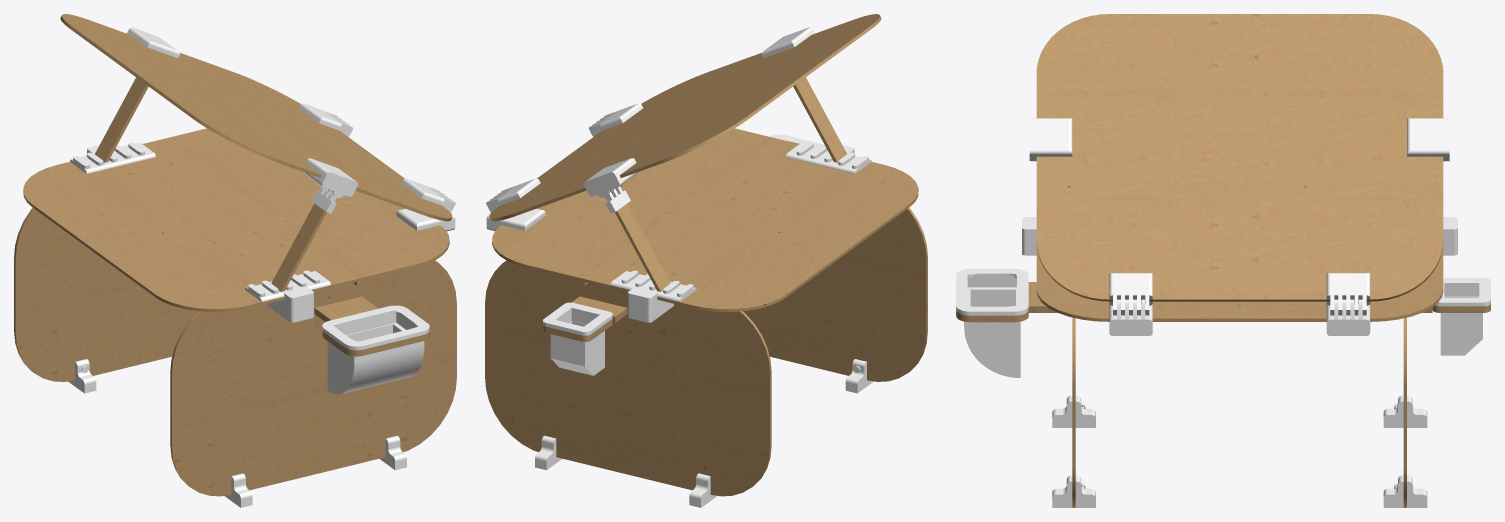
The model's file is Easel.glb.
The picture shows the model from 3 angles, left to right: view 1: azimuth 30°, elevation 25°; view 2: azimuth 150°, elevation 25°; view 3: azimuth 270°, elevation 25°; orthographic projection. The views are drawn at different scales.
Visible parts, largest first — view 1: object_2, object_1, object_7, object_9, object_10; view 2: object_2, object_1, object_8, object_10, object_9; view 3: object_2, object_1, object_7, object_9, object_8, object_10.
Boxes of the visible parts, box(x1,y1,x2,y2) form: object_2: box(14, 14, 456, 496); object_1: box(70, 27, 455, 394); object_7: box(379, 435, 406, 470); object_9: box(225, 473, 252, 507); object_10: box(68, 359, 96, 393); object_2: box(485, 14, 927, 496); object_1: box(486, 27, 871, 375); object_8: box(535, 435, 562, 470); object_10: box(689, 473, 716, 507); object_9: box(845, 359, 873, 393); object_2: box(956, 14, 1490, 507); object_1: box(956, 118, 1490, 377); object_7: box(1052, 475, 1095, 507); object_9: box(1052, 395, 1095, 427); object_8: box(1383, 475, 1427, 507); object_10: box(1383, 395, 1427, 427).
Size of the model in its own units: 0.6489 by 0.7686 by 0.9349.
Materials: 2 (1 with a texture image).
